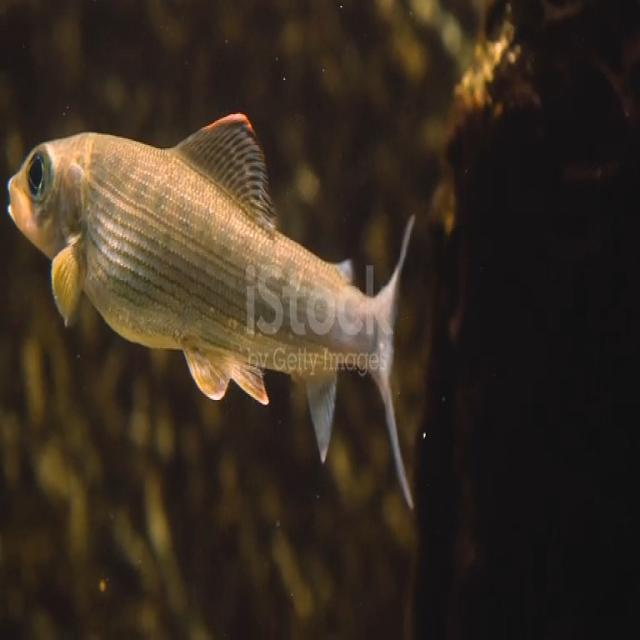fish: (4, 92, 421, 516)
